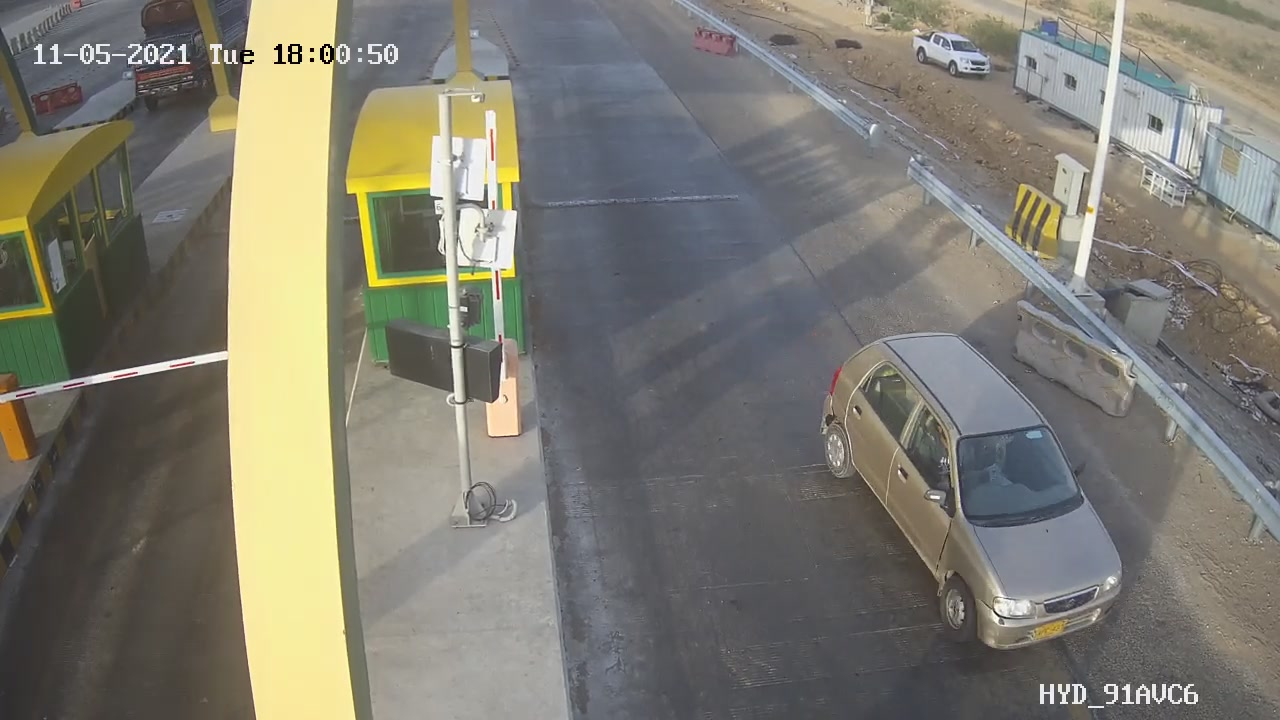F1: (813, 328, 1133, 655)
